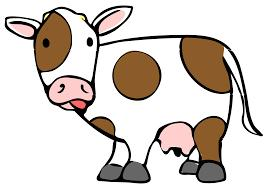cow: (5, 3, 263, 183)
